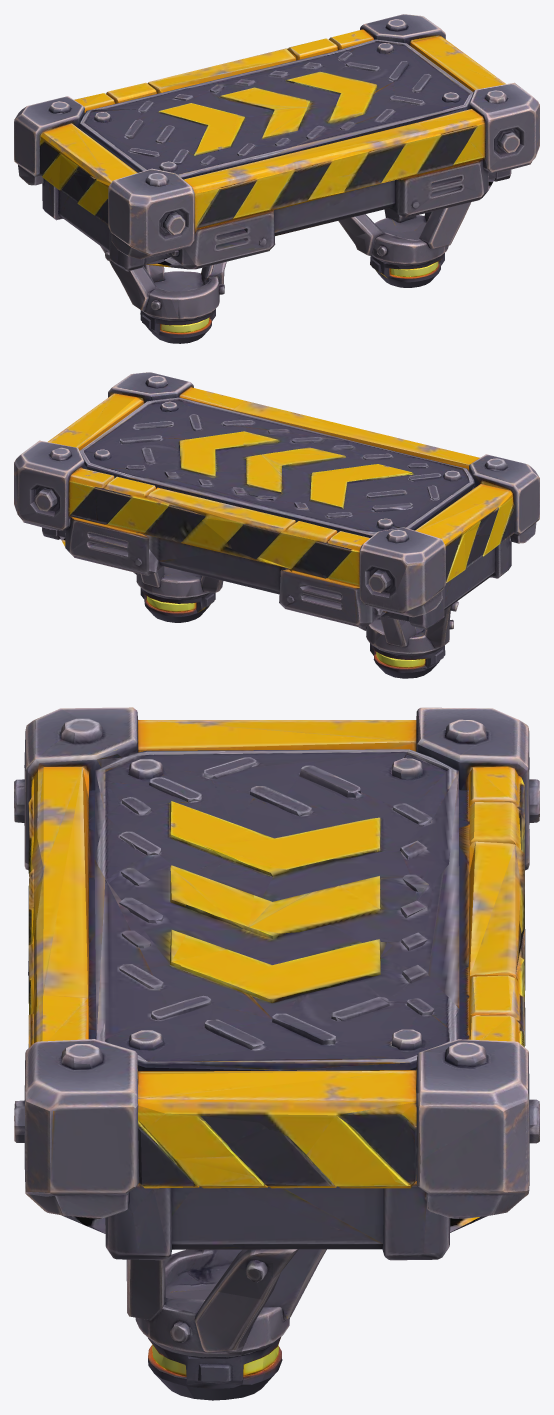
Rendered from hover_platform.glb.
3 renders of one model, top to bottom at view 1: azimuth 30°, elevation 25°; view 2: azimuth 150°, elevation 25°; view 3: azimuth 270°, elevation 25°, orthographic. The views are drawn at different scales.
Visible parts, largest first — view 1: output_unwrapped; view 2: output_unwrapped; view 3: output_unwrapped.
Part boxes in pixels (left/top/right/bottom): output_unwrapped: left=14, top=14, right=539, bottom=343; output_unwrapped: left=14, top=372, right=539, bottom=678; output_unwrapped: left=14, top=707, right=539, bottom=1400.
Size of what is drawn, in the model's own units: 2.18 by 1 by 1.23.
1 material, 1 textured.
